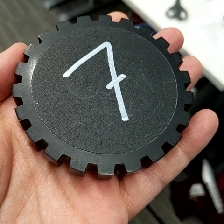gear: (10, 13, 195, 182)
